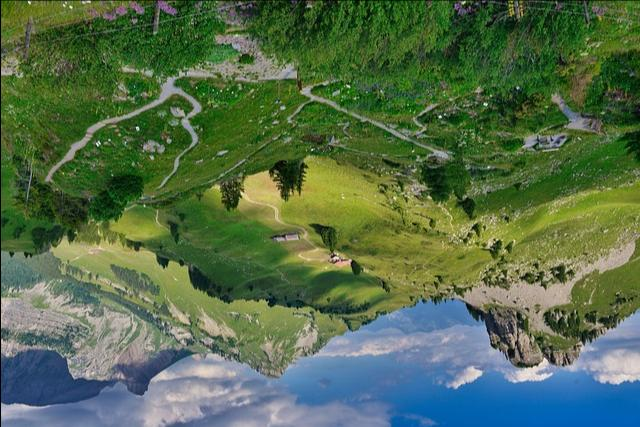Non_Gorille: (0, 0, 637, 424)
